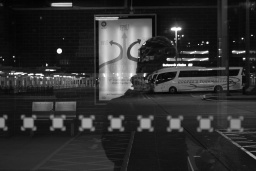bus: (149, 65, 246, 95)
